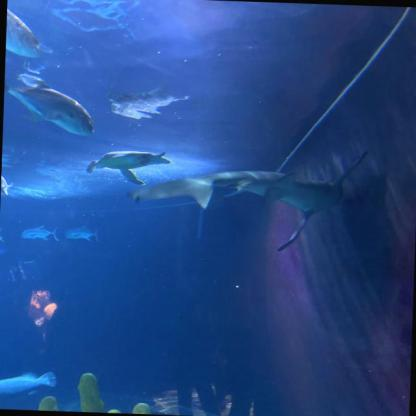fish: (3, 76, 96, 136), (0, 367, 57, 408), (6, 4, 45, 60), (20, 223, 59, 242), (63, 225, 99, 242), (1, 174, 12, 195)
shark: (124, 144, 368, 254)
